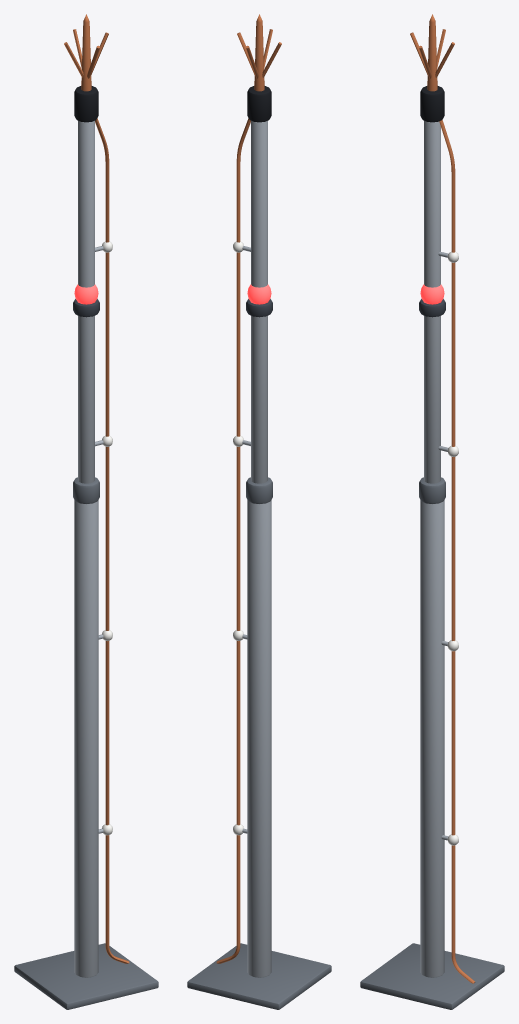
Rendered from para_raios.glb.
3 views of the same model, side by side, from view 1: azimuth 30°, elevation 25°; view 2: azimuth 150°, elevation 25°; view 3: azimuth 330°, elevation 25° (orthographic).
Parts seen in each view (by area): view 1: para_raios, balizamento; view 2: para_raios, balizamento; view 3: para_raios, balizamento.
Part boxes in pixels (x1=…): para_raios: x1=14, y1=14, x2=158, y2=1009; balizamento: x1=74, y1=284, x2=98, y2=304; para_raios: x1=187, y1=14, x2=331, y2=1009; balizamento: x1=247, y1=284, x2=271, y2=304; para_raios: x1=360, y1=14, x2=504, y2=1009; balizamento: x1=420, y1=284, x2=444, y2=304.
Bounding box in the file's own units: 0.4 × 3.98 × 0.4.
2 materials, 1 textured.
